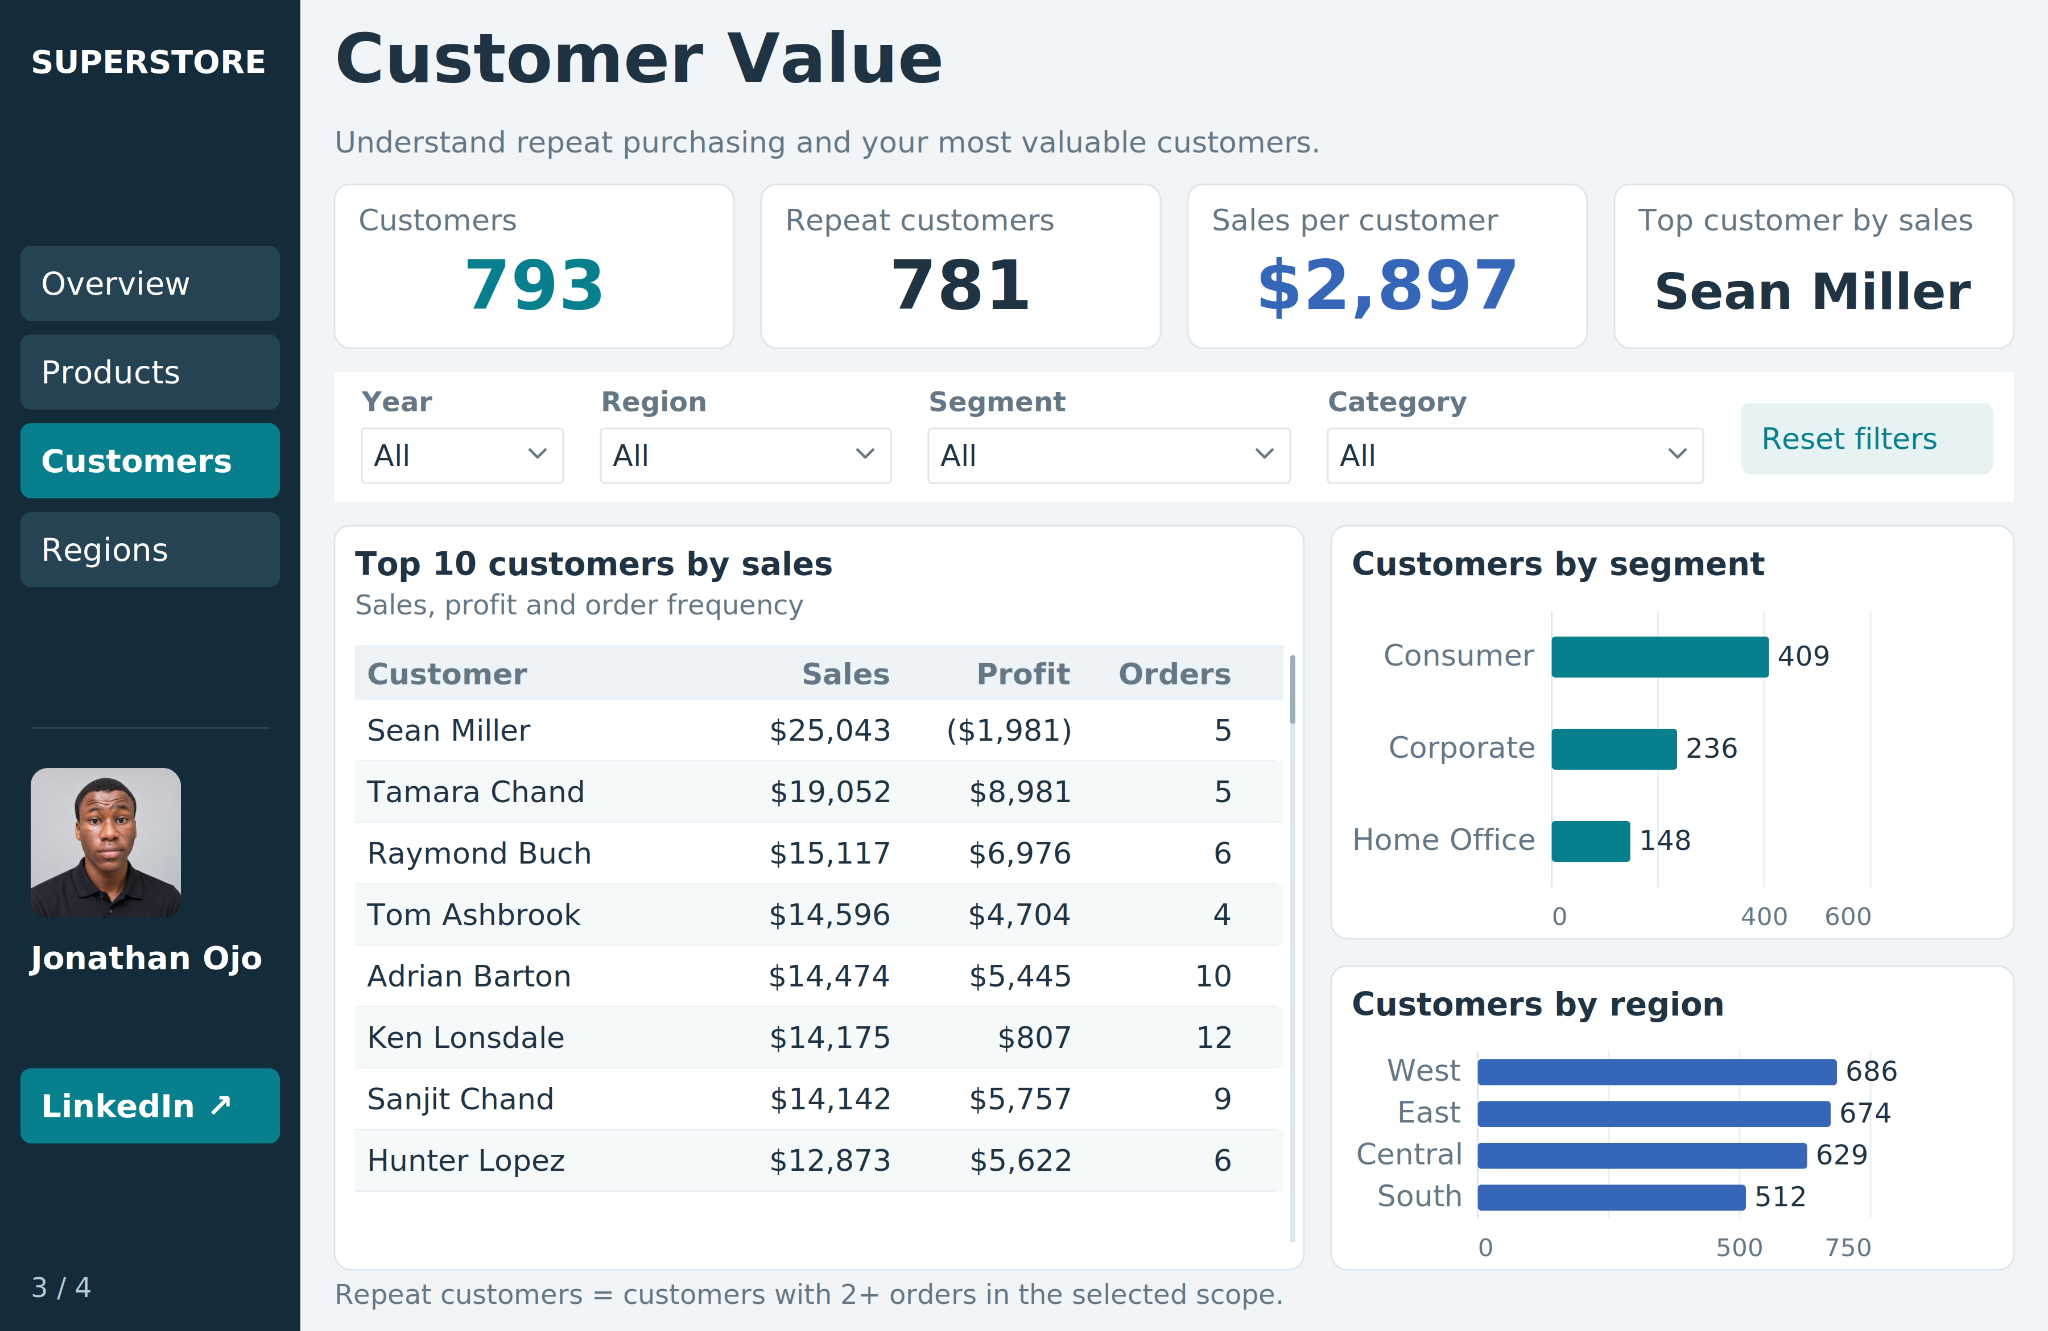

This screenshot's page, from the dashboard's own definition file:
{"tool":"powerbi","page":{"name":"Customer Value","canvas":[1200,780],"ordinal":2},"visuals":[{"type":"shape","box":[0,0,176,780],"z":0},{"type":"textbox","box":[18,24,144,38],"z":1000},{"type":"actionButton","box":[12,144,152,44],"z":4000},{"type":"actionButton","box":[12,196,152,44],"z":5000},{"type":"actionButton","box":[12,248,152,44],"z":6000},{"type":"actionButton","box":[12,300,152,44],"z":7000},{"type":"shape","box":[18,426,140,1],"z":8000},{"type":"image","box":[18,450,88,88],"z":9000},{"type":"textbox","box":[18,549,150,34],"z":10000},{"type":"actionButton","box":[12,626,152,44],"z":12000},{"type":"textbox","box":[18,744,140,30],"z":14000},{"type":"textbox","box":[196,8,984,62],"z":15000},{"type":"textbox","box":[196,72,984,32],"z":16000},{"type":"shape","box":[196,218,984,76],"z":17000},{"type":"slicer","title":"Year","fields":{"Values":["DateTable.Year"]},"box":[208,222,126,68],"z":18000},{"type":"slicer","title":"Region","fields":{"Values":["Sample-Superstore.Region"]},"box":[348,222,178,68],"z":19000},{"type":"slicer","title":"Segment","fields":{"Values":["Sample-Superstore.Segment"]},"box":[540,222,220,68],"z":20000},{"type":"slicer","title":"Category","fields":{"Values":["Sample-Superstore.Category"]},"box":[774,222,228,68],"z":21000},{"type":"actionButton","box":[1020,236,148,42],"z":22000},{"type":"textbox","box":[196,748,984,30],"z":23000},{"type":"card","title":"Customers","fields":{"Values":["Sample-Superstore.Total Customers"]},"box":[196,108,234,96],"z":24000},{"type":"card","title":"Repeat customers","fields":{"Values":["Sample-Superstore.Repeat Customers"]},"box":[446,108,234,96],"z":25000},{"type":"card","title":"Sales per customer","fields":{"Values":["Sample-Superstore.Avg Spend"]},"box":[696,108,234,96],"z":26000},{"type":"card","title":"Top customer by sales","fields":{"Values":["Sample-Superstore.Highest Value Customer"]},"box":[946,108,234,96],"z":27000},{"type":"tableEx","title":"Top 10 customers by sales","fields":{"Values":["Sample-Superstore.Customer Name","Sample-Superstore.Total Sales","Sample-Superstore.Total Profit","Sample-Superstore.Total Orders"]},"box":[196,308,568,436],"z":28000},{"type":"clusteredBarChart","title":"Customers by segment","fields":{"Category":["Sample-Superstore.Segment"],"Y":["Sample-Superstore.Total Customers"]},"box":[780,308,400,242],"z":29000},{"type":"clusteredBarChart","title":"Customers by region","fields":{"Category":["Sample-Superstore.Region"],"Y":["Sample-Superstore.Total Customers"]},"box":[780,566,400,178],"z":30000}]}

Visuals, with their boxes in screenshot pixels (x1, y1, x2, y2), scaled from the page's 1200x780 canvas onto the 2048x1331 screenshot:
shape: <bbox>0, 0, 300, 1330</bbox>
textbox: <bbox>31, 41, 276, 106</bbox>
actionButton: <bbox>20, 246, 280, 321</bbox>
actionButton: <bbox>20, 334, 280, 410</bbox>
actionButton: <bbox>20, 423, 280, 498</bbox>
actionButton: <bbox>20, 512, 280, 587</bbox>
shape: <bbox>31, 727, 270, 729</bbox>
image: <bbox>31, 768, 181, 918</bbox>
textbox: <bbox>31, 937, 287, 995</bbox>
actionButton: <bbox>20, 1068, 280, 1143</bbox>
textbox: <bbox>31, 1270, 270, 1321</bbox>
textbox: <bbox>335, 14, 2014, 119</bbox>
textbox: <bbox>335, 123, 2014, 177</bbox>
shape: <bbox>335, 372, 2014, 502</bbox>
"Year" slicer: <bbox>355, 379, 570, 495</bbox>
"Region" slicer: <bbox>594, 379, 898, 495</bbox>
"Segment" slicer: <bbox>922, 379, 1297, 495</bbox>
"Category" slicer: <bbox>1321, 379, 1710, 495</bbox>
actionButton: <bbox>1741, 403, 1993, 474</bbox>
textbox: <bbox>335, 1276, 2014, 1328</bbox>
"Customers" card: <bbox>335, 184, 734, 348</bbox>
"Repeat customers" card: <bbox>761, 184, 1161, 348</bbox>
"Sales per customer" card: <bbox>1188, 184, 1587, 348</bbox>
"Top customer by sales" card: <bbox>1615, 184, 2014, 348</bbox>
"Top 10 customers by sales" tableEx: <bbox>335, 526, 1304, 1270</bbox>
"Customers by segment" clusteredBarChart: <bbox>1331, 526, 2014, 939</bbox>
"Customers by region" clusteredBarChart: <bbox>1331, 966, 2014, 1270</bbox>
